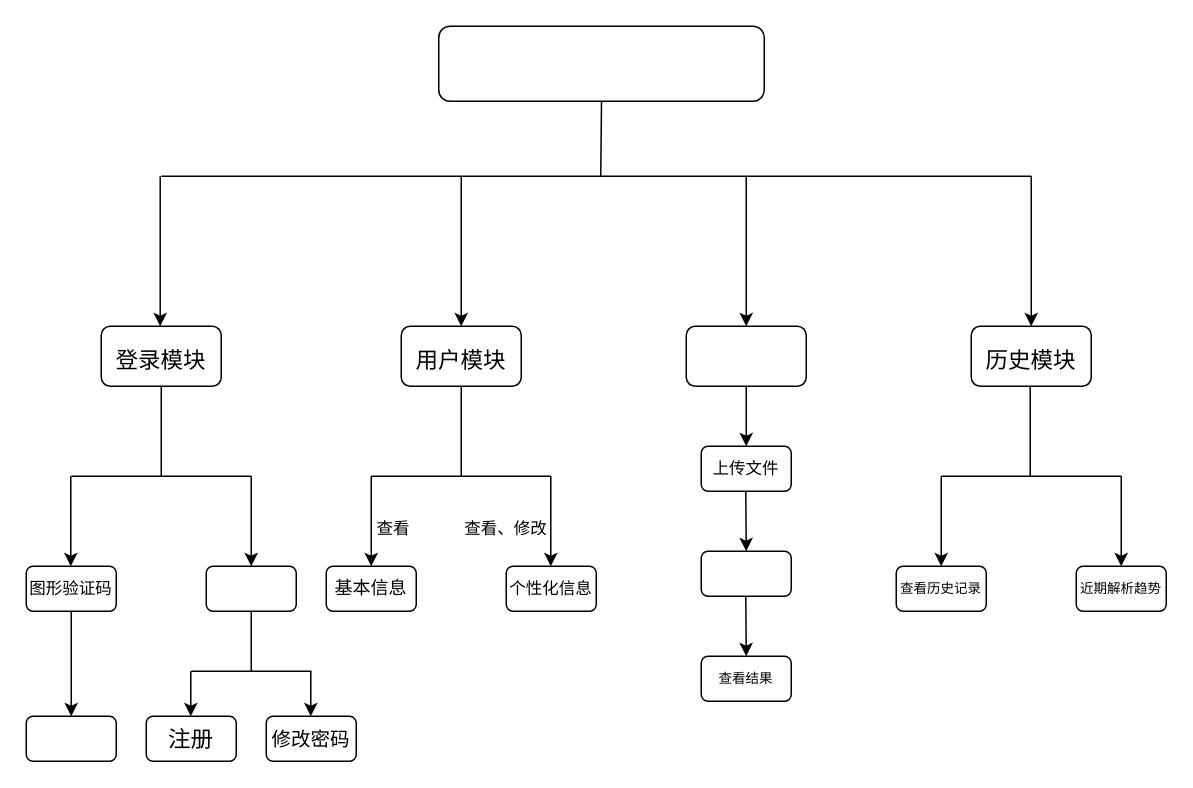
This 1193x788 diagram has some shape labels left out. Here are the shapes that lost their labels. From the top down, the centre of each, then its label:
the point at 600,63: 智寻系统模块设计
the point at 745,355: 解析模块
the point at 250,588: 邮箱验证
the point at 745,573: 自定义权重（可选）
the point at 70,738: 登录
